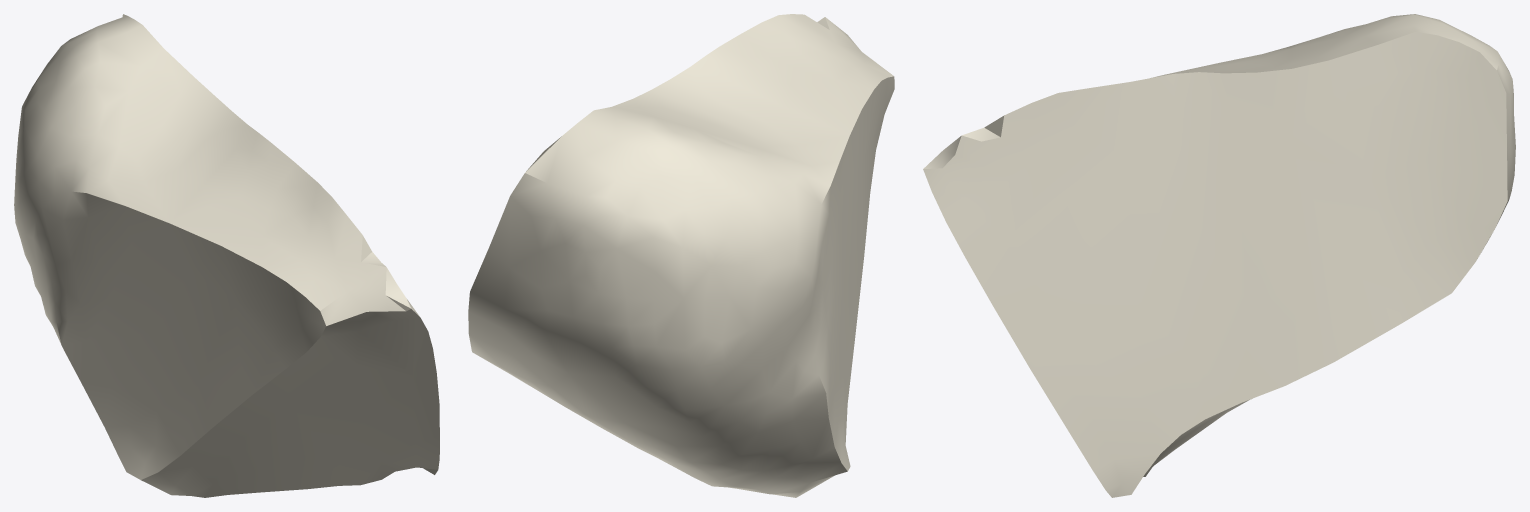
Rendered from fma16318_mm2368m.glb.
3 views of the same model, side by side, from view 1: azimuth 30°, elevation 25°; view 2: azimuth 150°, elevation 25°; view 3: azimuth 270°, elevation 25° (orthographic). The views are drawn at different scales.
Visible parts, largest first — view 1: FMA16318_MM2368M; view 2: FMA16318_MM2368M; view 3: FMA16318_MM2368M.
Boxes of the visible parts, <box> form: FMA16318_MM2368M: <box>14,14,439,497</box>; FMA16318_MM2368M: <box>468,14,894,497</box>; FMA16318_MM2368M: <box>923,14,1515,497</box>.
Bounding box in the file's own units: 0.00825 × 0.0105 × 0.014.
